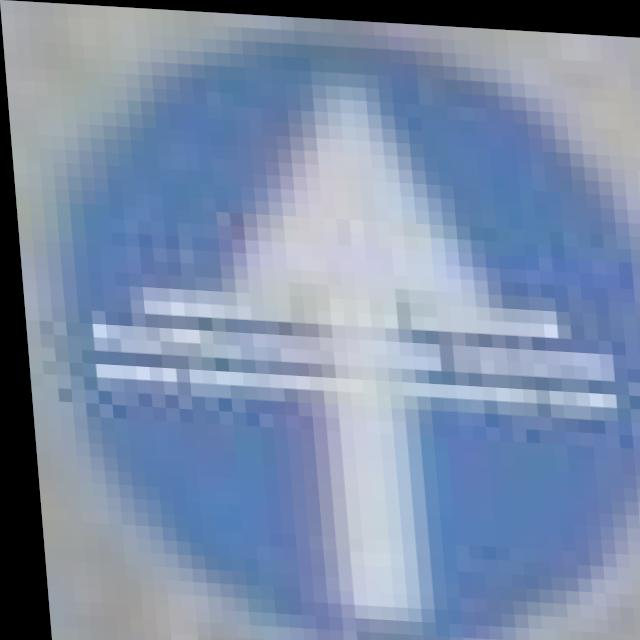COMPULSORY_AHEAD: (14, 14, 640, 640)
